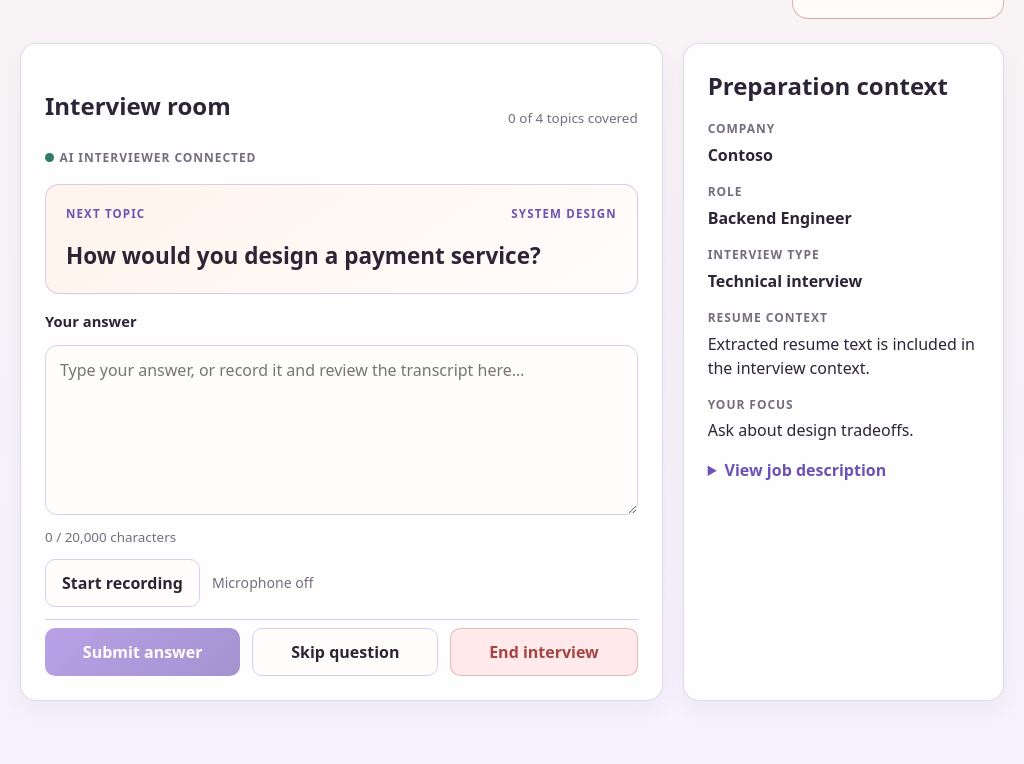
Test: MockInterview › transcribes voice into an editable answer and waits for explicit submission
(page scrolled)
expect the heading "How would you design a payment service?" is shown: met, box [66,238,617,273]
Click the button "Start recording" at (122, 583), box [45,559,200,607]
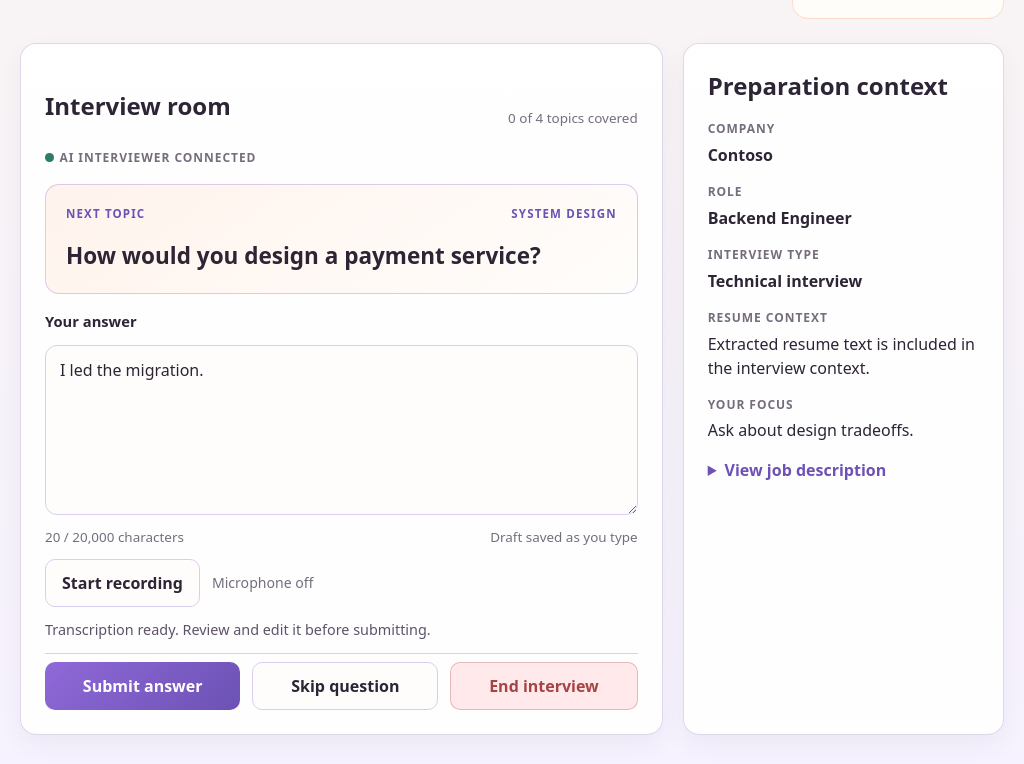
expect the text "Recording · microphone active" is shown: met, box [212,572,314,593]
expect the text box labelled "Your answer" holds "I led the migration.": met
expect the text "Transcription ready. Review and edit it before submitting." is shown: met, box [45,620,431,639]
Replace the text in the text box labelled "Your answer" with "I led the migration and reduced latency." at (341, 430), box [45,344,638,514]
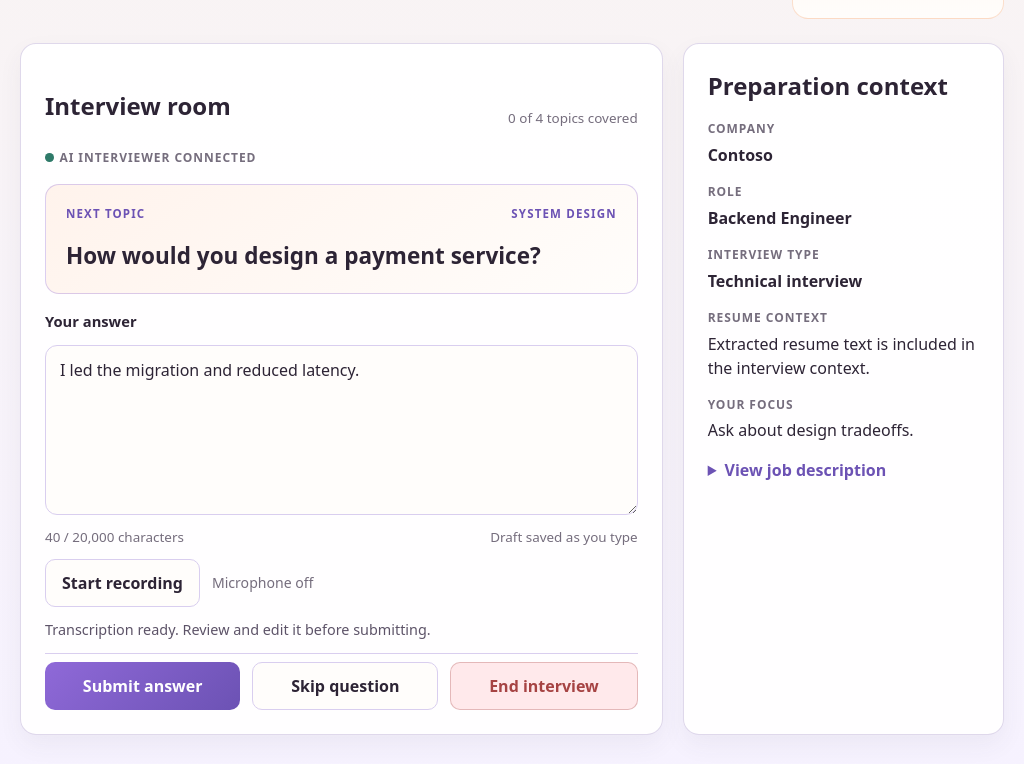
Click the button "Submit answer" at (143, 686), box [45,662,240,710]
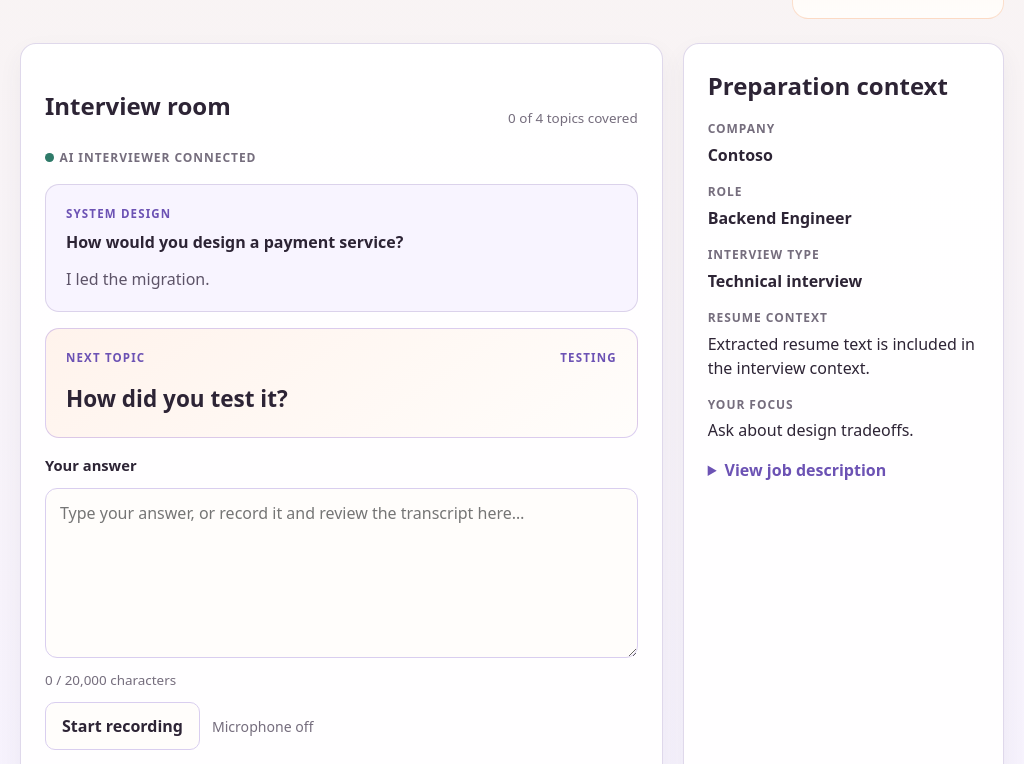
expect the heading "How did you test it?" is shown: met, box [66,383,288,414]
